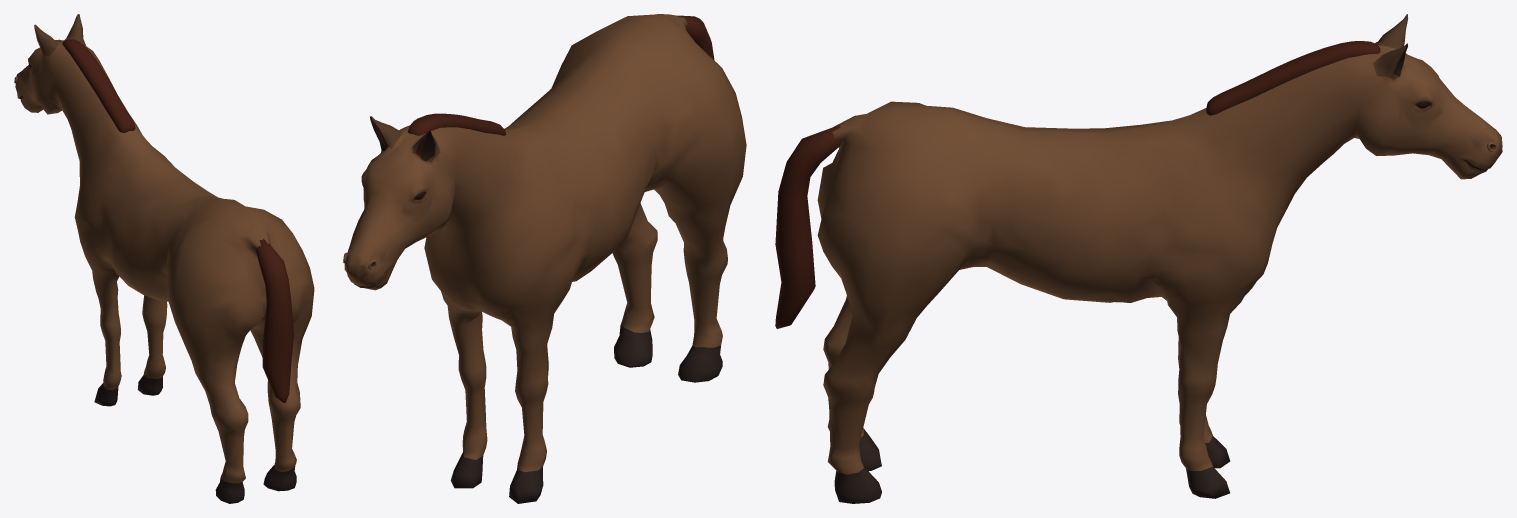
3 renders of one model, left to right at view 1: azimuth 30°, elevation 25°; view 2: azimuth 150°, elevation 25°; view 3: azimuth 270°, elevation 25°, orthographic. The views are drawn at different scales.
Visible parts, largest first — view 1: Horse.v0.004; view 2: Horse.v0.004; view 3: Horse.v0.004.
Boxes of the visible parts, <box> form: Horse.v0.004: <box>14,14,314,503</box>; Horse.v0.004: <box>343,14,746,503</box>; Horse.v0.004: <box>775,14,1502,503</box>.
Size of the model in its own units: 0.8326 by 2.01 by 2.94.
